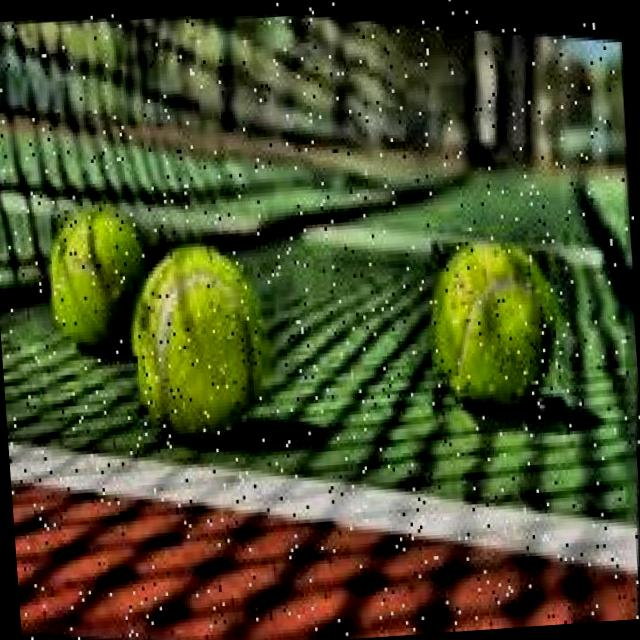Tennis Ball: (127, 232, 286, 456), (422, 228, 584, 440), (42, 200, 160, 366)
